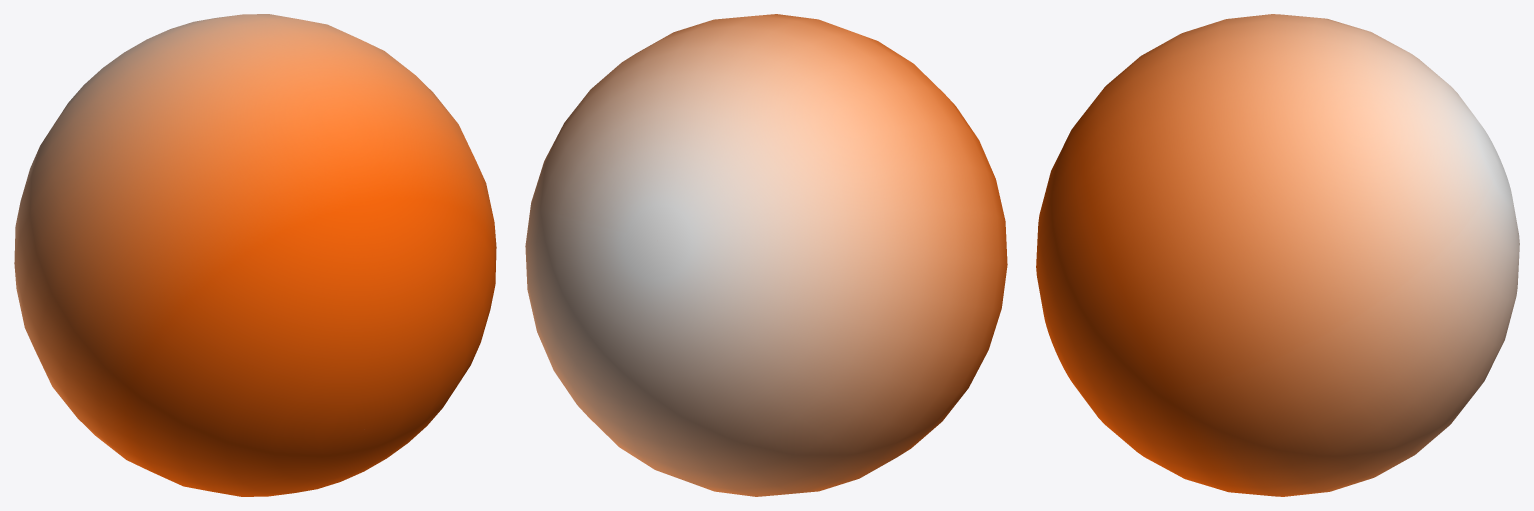
Rendered from ball.obj.
3 views of the same model, side by side, from view 1: azimuth 30°, elevation 25°; view 2: azimuth 150°, elevation 25°; view 3: azimuth 270°, elevation 25° (orthographic).
Parts seen in each view (by area): view 1: 球; view 2: 球; view 3: 球.
Part boxes in pixels (x1,y1,x2,y2): 球: (14,14,496,496); 球: (525,14,1007,496); 球: (1036,14,1519,496).
Bounding box in the file's own units: 2 × 2 × 2.
